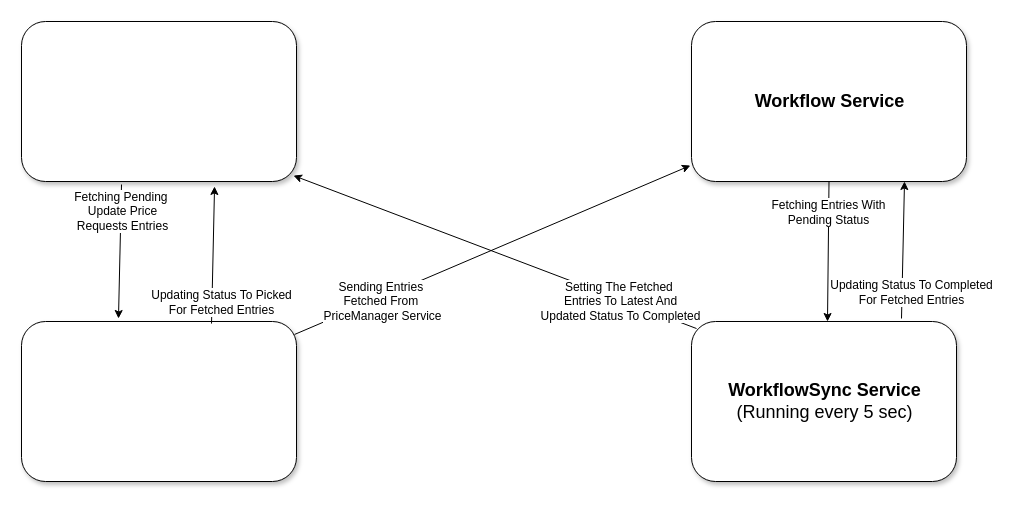
This 1011x506 diagram has some shape labels left out. The shapes that lost their labels are listed below. From the top down, each one's centre as x and y in pixels, then its label:
At pixel 159 102: "PriceManager Service".
At pixel 159 402: "PriceSync Service (Running every 5 sec)".
